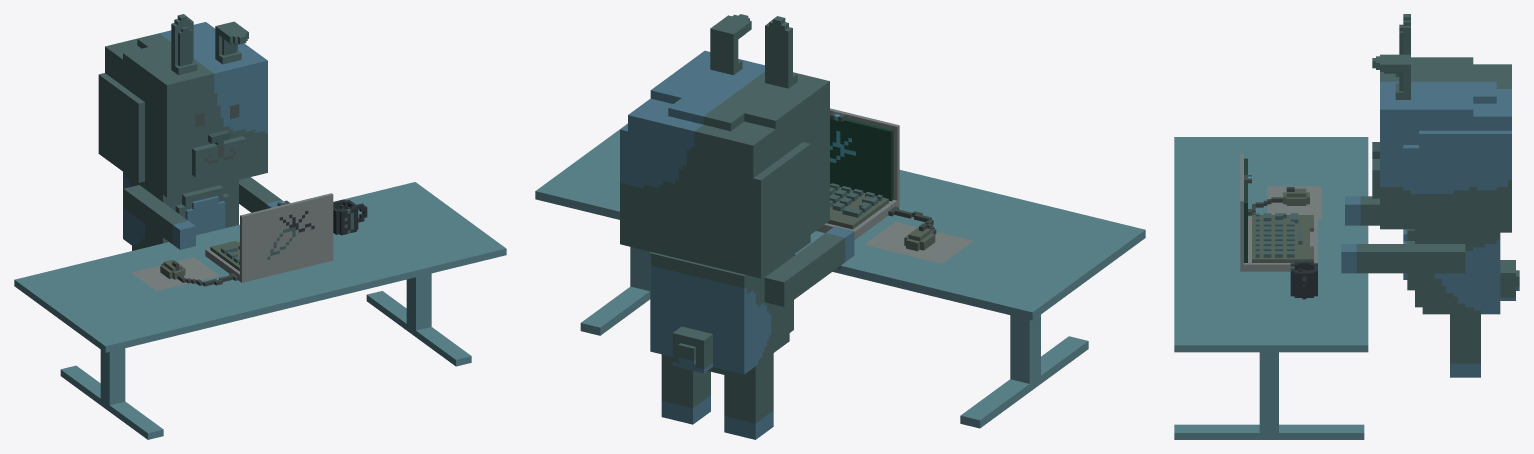
File: bunny.obj
3 renders of one model, left to right at view 1: azimuth 30°, elevation 25°; view 2: azimuth 150°, elevation 25°; view 3: azimuth 270°, elevation 25°, orthographic. The views are drawn at different scales.
Size of the model in its own units: 12.7 by 9.4 by 8.9.
1 material, 1 textured.
